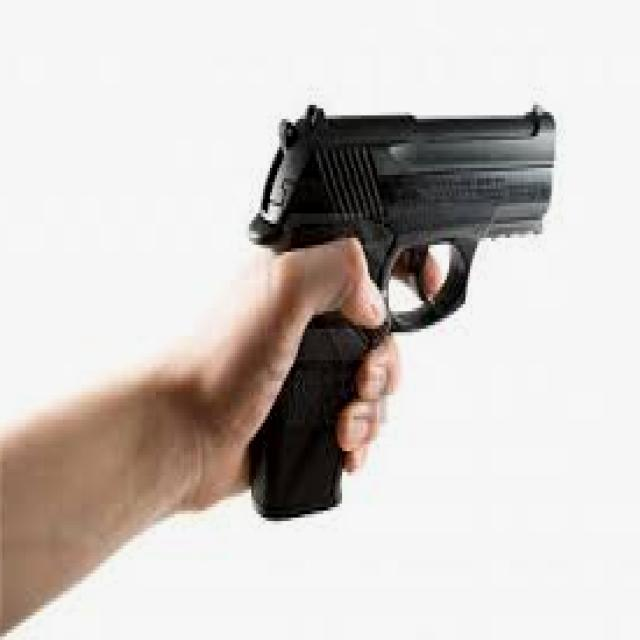pistol: (244, 95, 568, 518)
